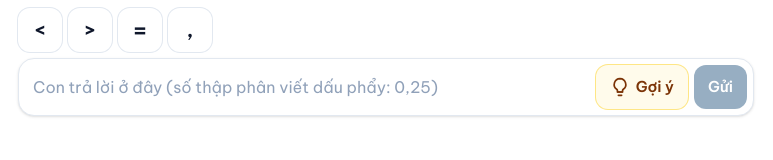
Test: AnswerPanel › inserts signs at the cursor, so '0,25 < 0,3' can be built without a keyboard
Type "0,25  0,3" into the text box at {"x": 307, "y": 87}, box [25, 65, 590, 109]
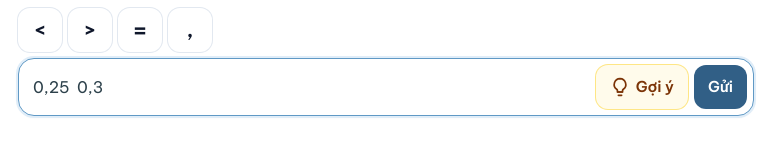
Click the button named "dấu bé hơn" at {"x": 40, "y": 30}, box [18, 8, 62, 52]
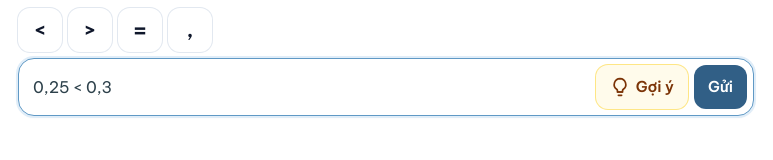
expect the text box holds "0,25 < 0,3": met, box [25, 65, 590, 109]
